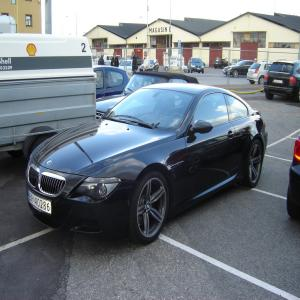Vehicle-registration-plate: (31, 190, 52, 217), (274, 81, 283, 84)
